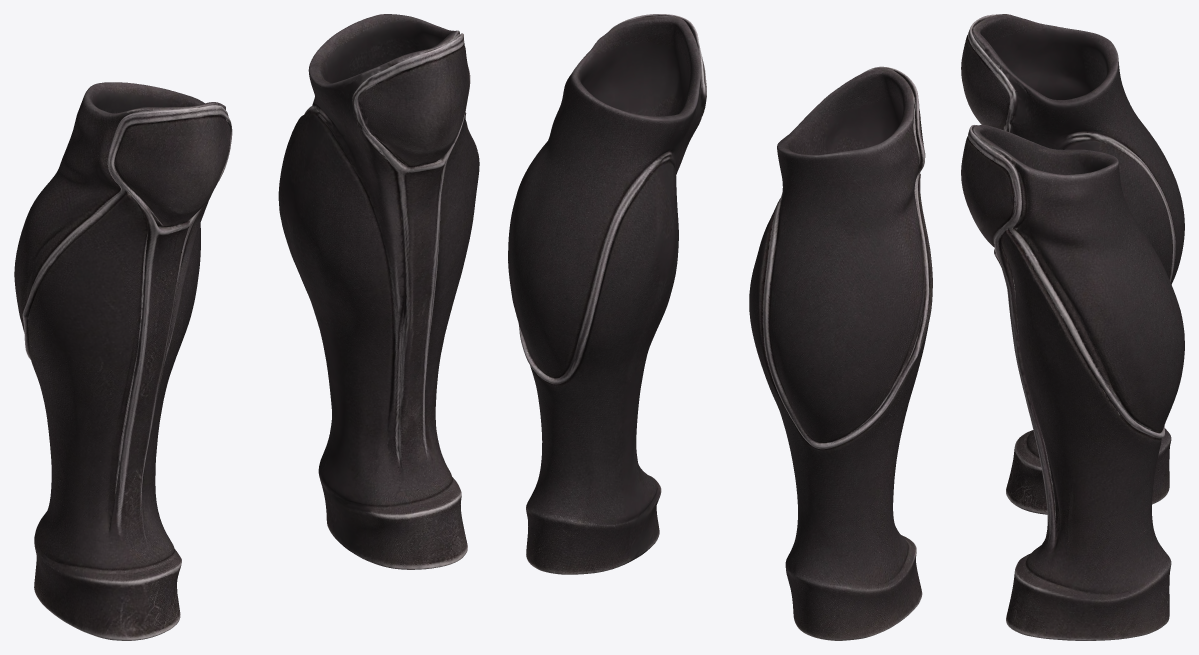
The model's file is iron_legs.glb.
3 views of the same model, side by side, from view 1: azimuth 30°, elevation 25°; view 2: azimuth 150°, elevation 25°; view 3: azimuth 270°, elevation 25° (orthographic). The views are drawn at different scales.
Size of the model in its own units: 1.62 by 1.9 by 0.8058.
Materials: 1 (1 with a texture image).
